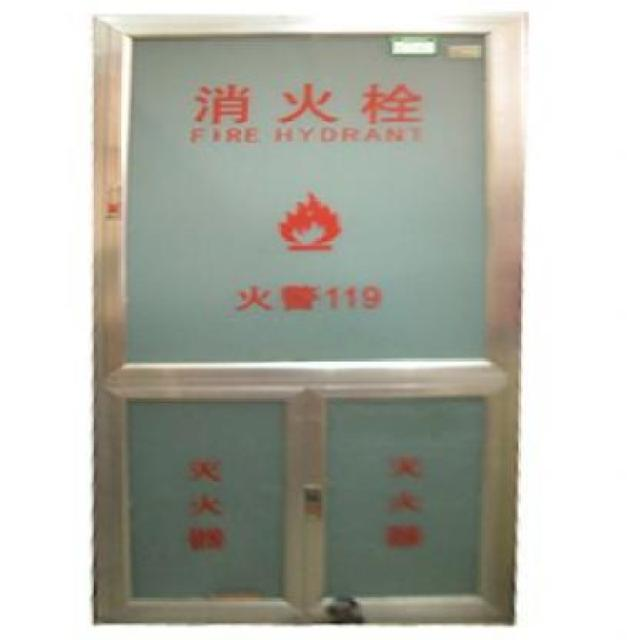firehydrant: (83, 6, 529, 632)
